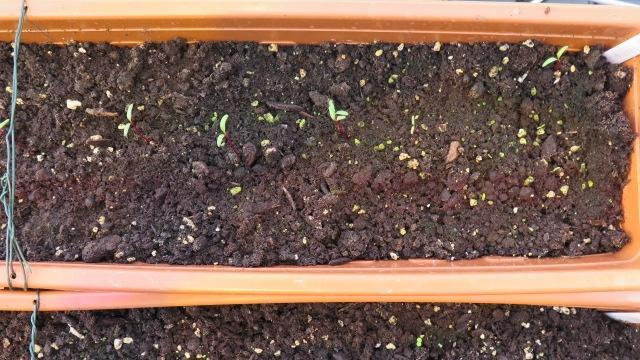crop: (210, 111, 231, 147), (116, 100, 135, 138)
